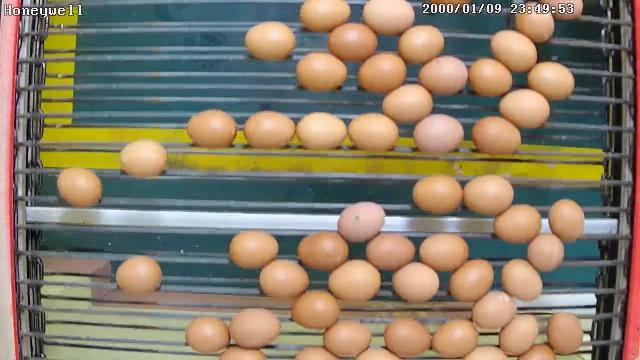egg: (327, 258, 382, 304), (461, 172, 515, 218), (346, 110, 399, 156), (497, 87, 551, 131), (294, 50, 348, 94), (411, 114, 465, 158), (242, 109, 296, 153), (184, 108, 238, 152), (116, 136, 170, 180), (411, 173, 463, 218), (326, 20, 379, 64), (258, 256, 311, 300), (242, 19, 296, 62), (296, 229, 350, 272), (56, 164, 105, 211), (470, 114, 522, 158), (290, 288, 342, 332), (229, 307, 281, 351), (380, 82, 434, 124), (490, 28, 539, 74), (356, 50, 406, 95), (391, 259, 442, 303), (228, 229, 280, 272), (417, 231, 471, 272), (115, 253, 164, 298), (492, 202, 542, 246), (418, 54, 468, 98), (336, 200, 386, 244), (294, 110, 346, 152), (526, 60, 576, 103), (365, 231, 416, 273), (448, 258, 494, 304), (470, 288, 518, 332), (546, 197, 588, 246), (429, 316, 478, 358), (383, 316, 432, 358), (396, 24, 445, 66), (361, 0, 415, 38), (496, 312, 540, 358), (184, 314, 232, 356), (468, 56, 513, 100), (322, 318, 372, 357), (500, 258, 544, 302), (513, 2, 557, 46), (545, 308, 584, 356), (526, 228, 566, 274), (299, 0, 351, 35)
